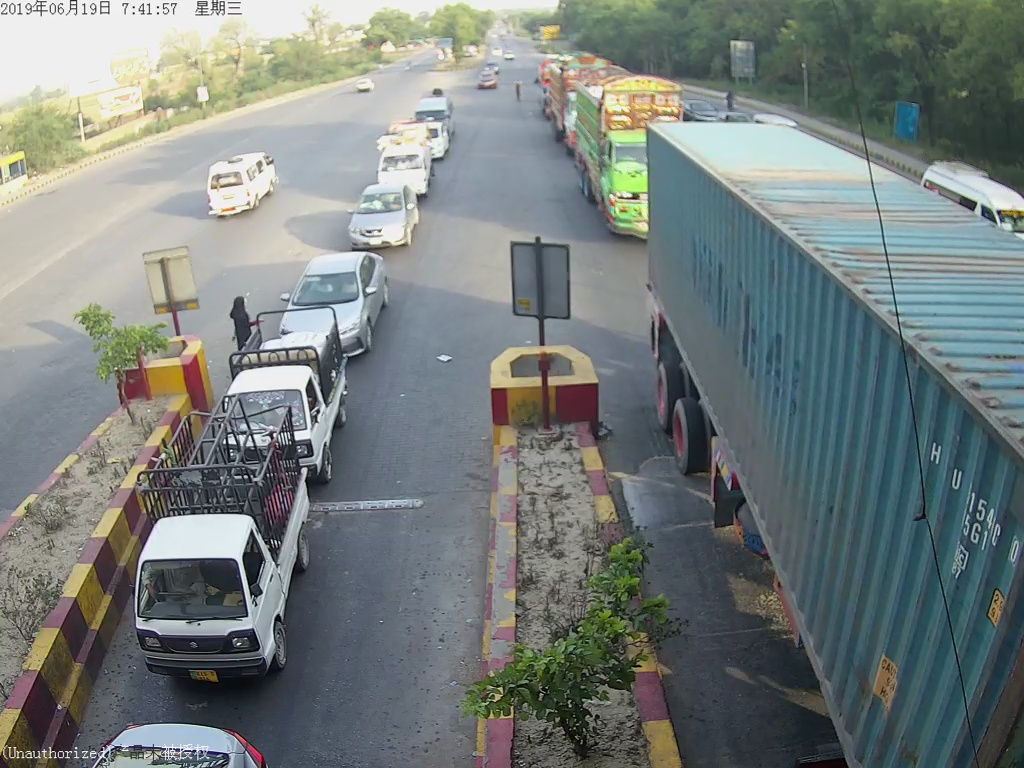Cat-1: (143, 422, 302, 685), (209, 322, 353, 417), (348, 185, 419, 249)
Cat-4: (577, 80, 648, 237)
